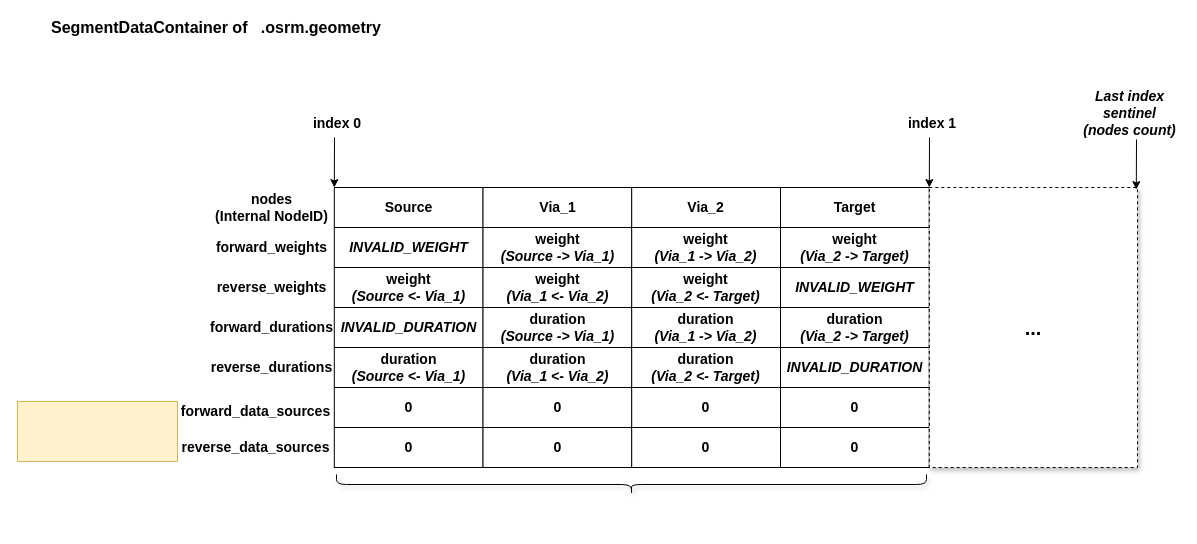
This 1197x544 diagram has some shape labels left out. Here are the shapes that lost their labels. From the top down, the centre of each, then its label:
At point 97,431: "0 means LUA_SOURCE".
At point 632,485: "compressed node based edge".
